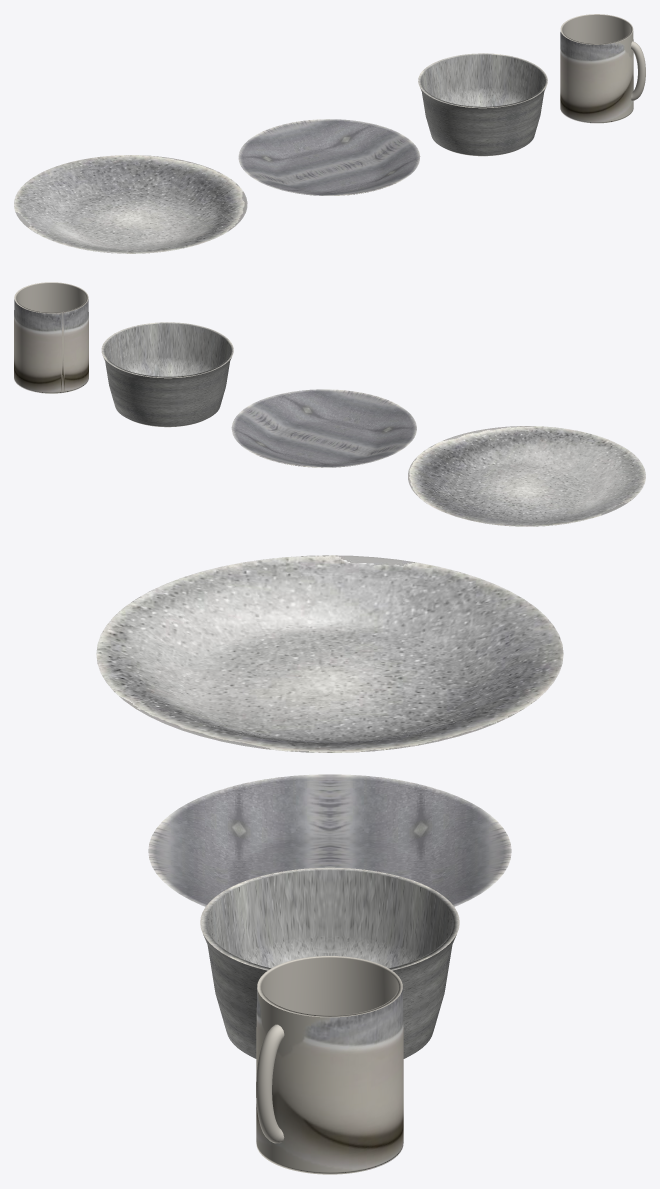
The picture shows the model from 3 angles, top to bottom: view 1: azimuth 30°, elevation 25°; view 2: azimuth 150°, elevation 25°; view 3: azimuth 270°, elevation 25°; orthographic projection. The views are drawn at different scales.
Bounding box in the file's own units: 0.7997 × 0.1 × 0.27.
Materials: 9 (7 with a texture image).
